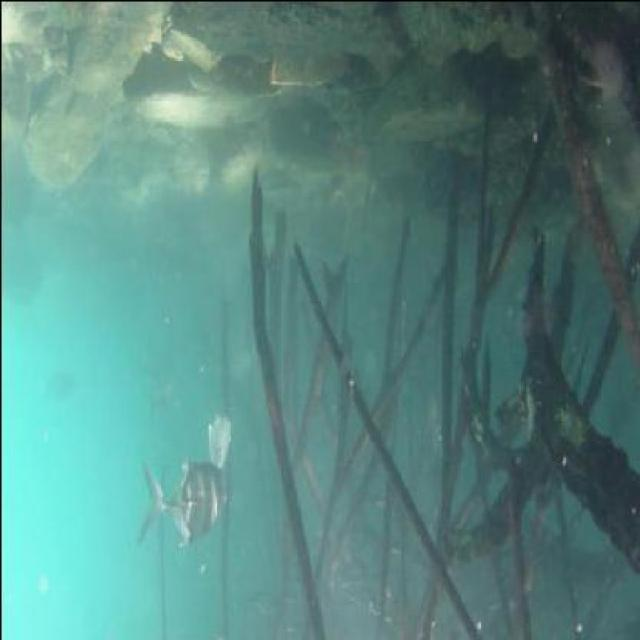Caranx_sexfasciatus_juvenile: (125, 440, 204, 558), (172, 452, 228, 546), (198, 397, 242, 469)
